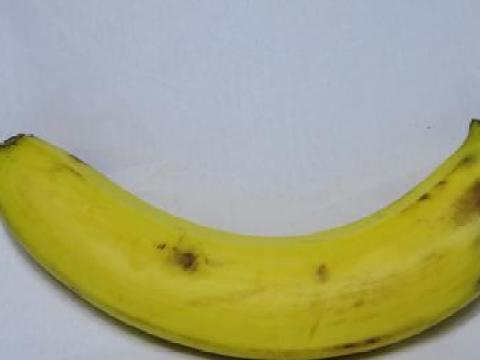freshripe: (0, 106, 479, 359)
